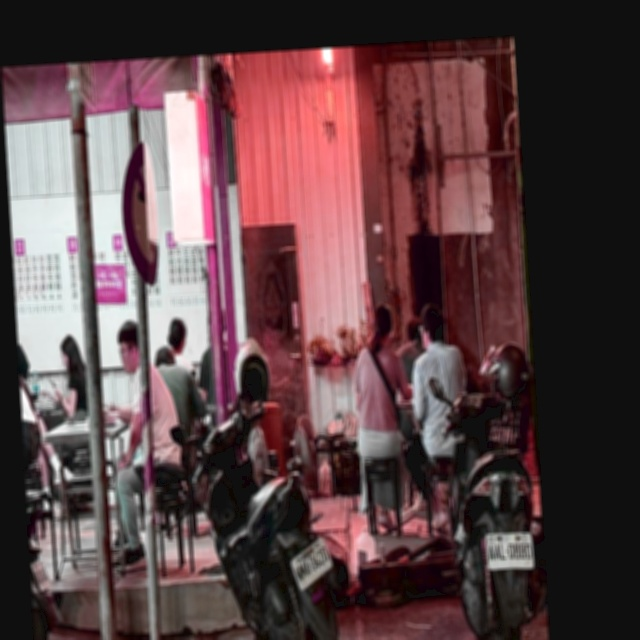Sin_Casco_Mascarrilla: (115, 319, 141, 376), (420, 303, 447, 346), (370, 303, 394, 345), (166, 316, 188, 355), (58, 333, 80, 371)
Sin_Chaleco: (356, 345, 401, 435)
